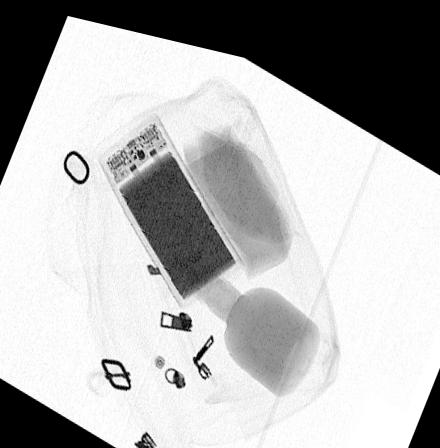Powerbank: (96, 102, 244, 302)
